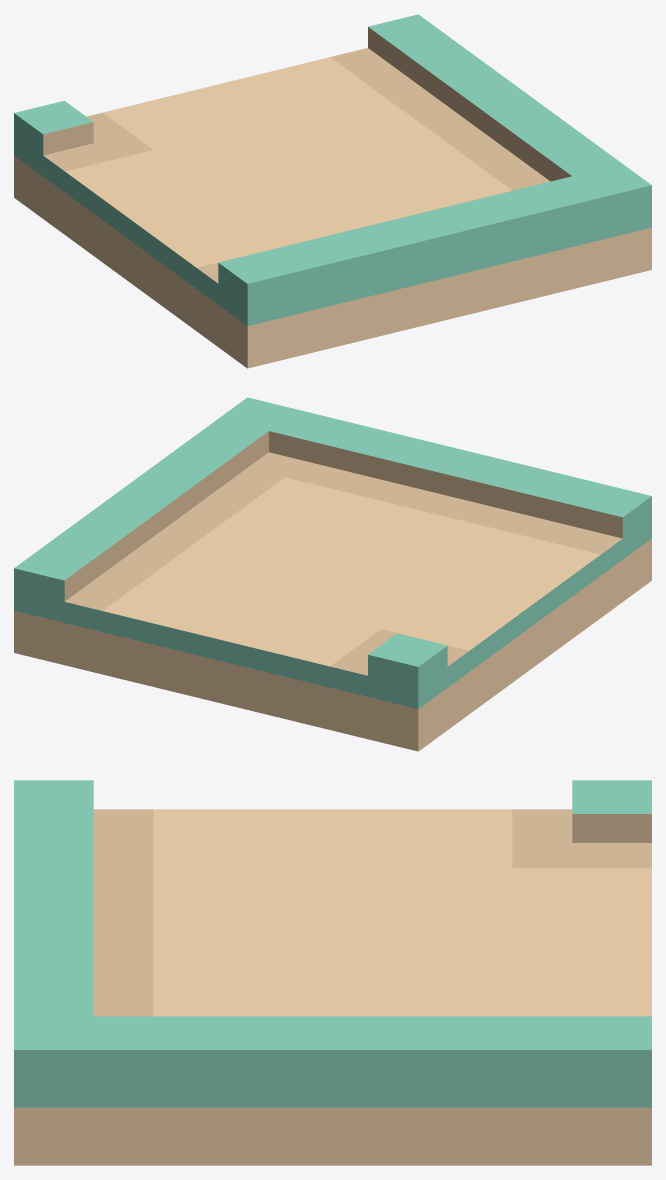
Rendered from tile_cornerSquare.glb.
3 views of the same model, one above another, from view 1: azimuth 30°, elevation 25°; view 2: azimuth 150°, elevation 25°; view 3: azimuth 270°, elevation 25° (orthographic). The views are drawn at different scales.
Parts seen in each view (by area): view 1: tile_cornerSquare; view 2: tile_cornerSquare; view 3: tile_cornerSquare.
Part boxes in pixels (<box>): tile_cornerSquare: <box>14,14,651,368</box>; tile_cornerSquare: <box>14,397,651,751</box>; tile_cornerSquare: <box>14,780,651,1165</box>.
Bounding box in the file's own units: 1 × 0.2 × 1.
